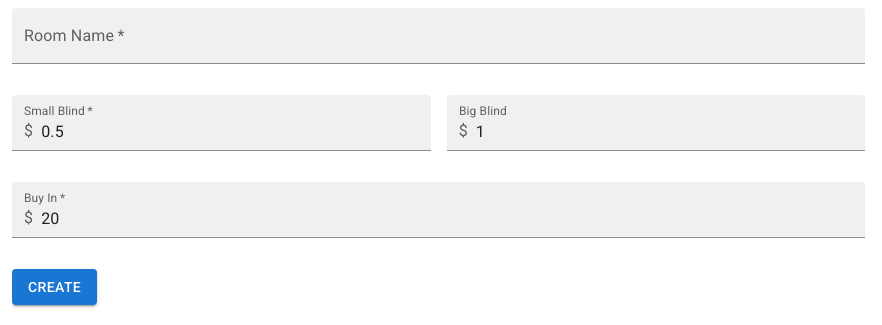
Test: renders error message and disables create button for invalid; no error message and enabled create button for valid › smallBlind
This screenshot has width=882, height=325.
Replace the text in the field labelled "Small Blind" with "-10" at (236, 123), box top-left (41, 95), bottom-right (431, 151)
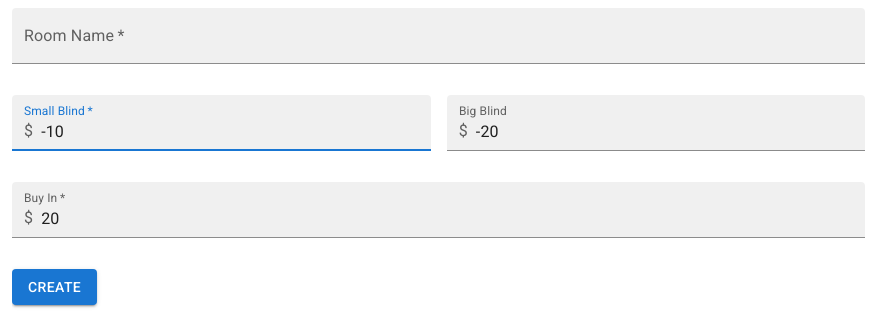
Click the field labelled "Big Blind" at (671, 123), box top-left (476, 95), bottom-right (865, 151)
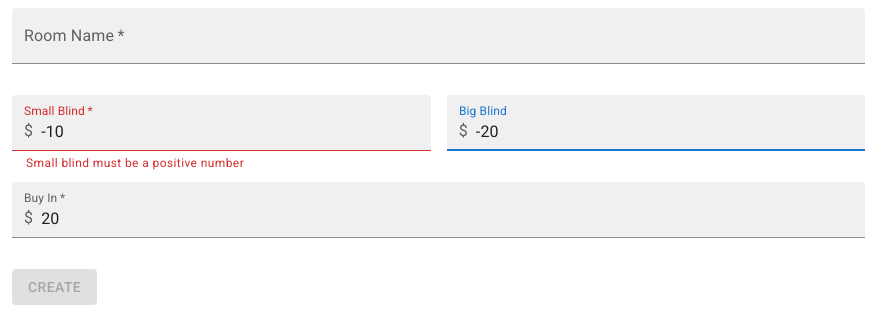
Expected: the button "Create" is disabled, top-left (12, 269), bottom-right (97, 305)
Replace the text in the field labelled "Small Blind" with "0.5" at (236, 123), box top-left (41, 95), bottom-right (431, 151)
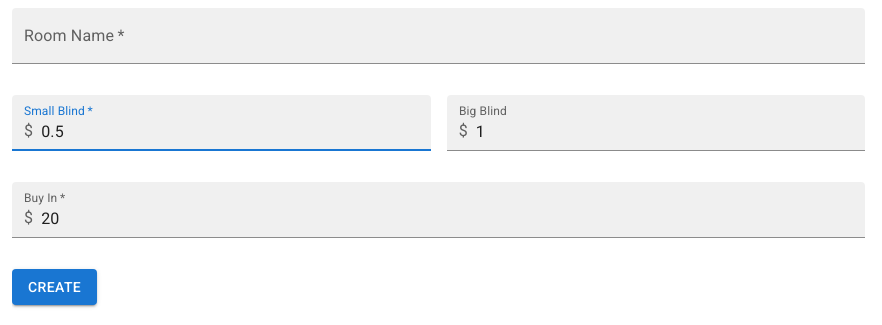
Expected: the button "Create" is enabled, top-left (12, 269), bottom-right (97, 305)
